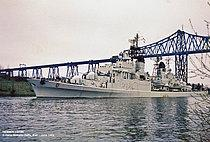MIL_Ship: (26, 35, 208, 99)
